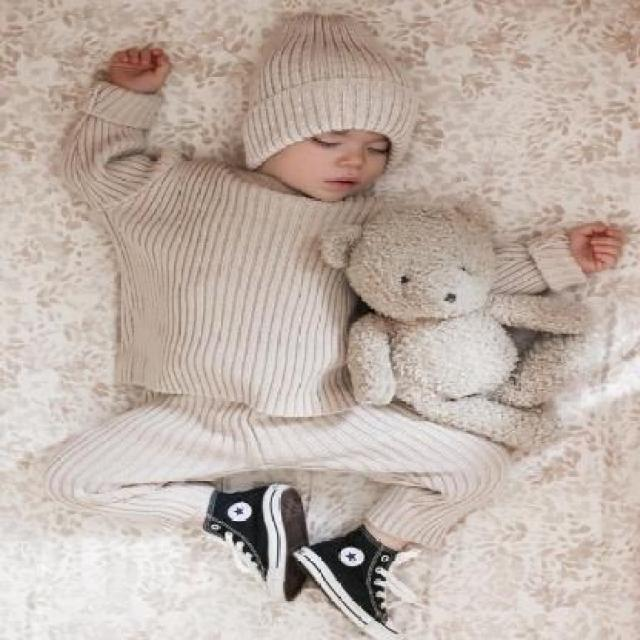baby: (29, 9, 622, 638)
